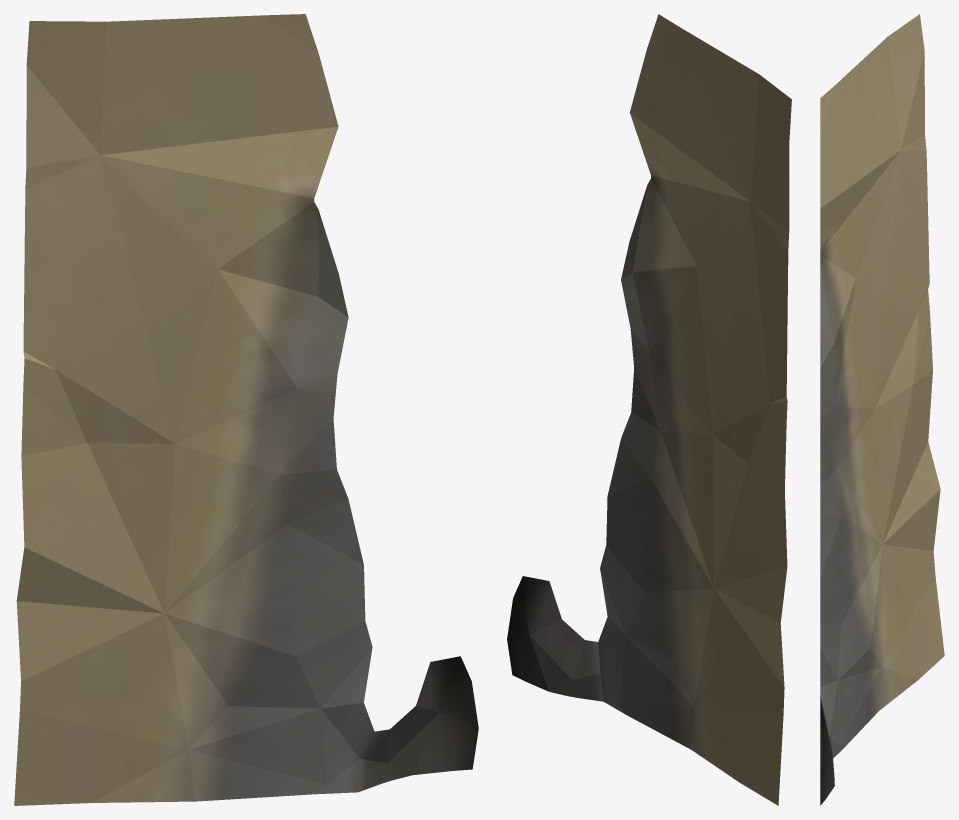
The picture shows the model from 3 angles, left to right: view 1: azimuth 30°, elevation 25°; view 2: azimuth 150°, elevation 25°; view 3: azimuth 270°, elevation 25°; orthographic projection. The views are drawn at different scales.
Bounding box in the file's own units: 0.4264 × 0.8374 × 0.1472.
1 material, 1 textured.
